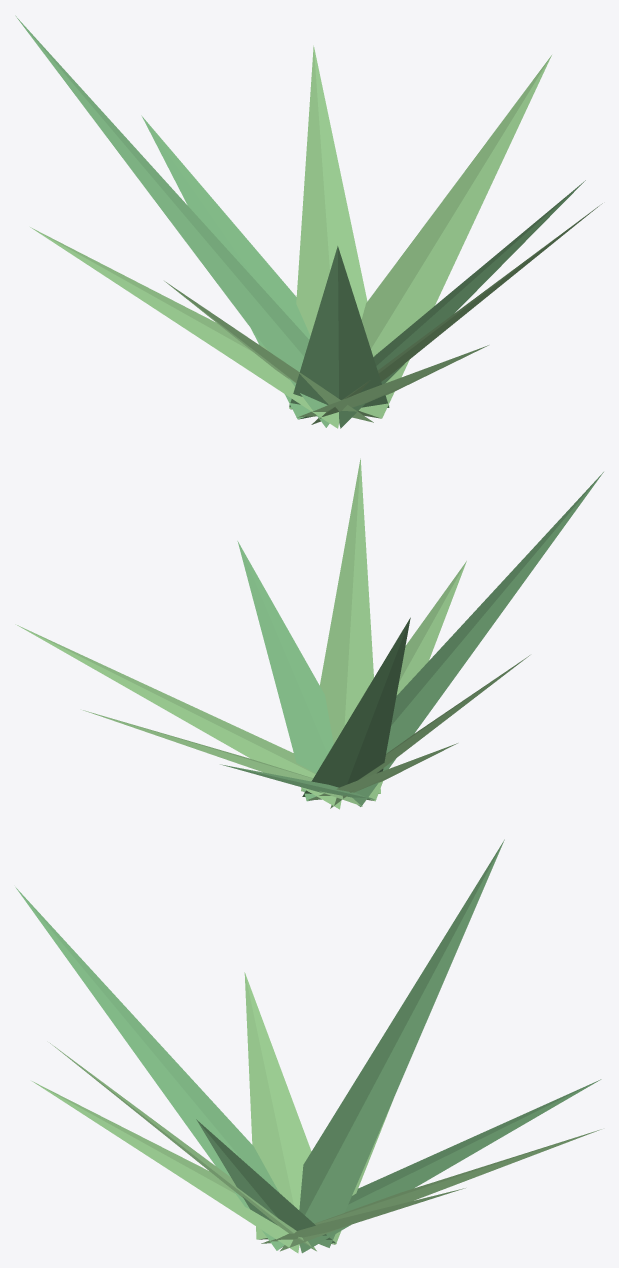
Rendered from samambaia_1.fbx.
3 views of the same model, one above another, from view 1: azimuth 30°, elevation 25°; view 2: azimuth 150°, elevation 25°; view 3: azimuth 270°, elevation 25° (orthographic). The views are drawn at different scales.
Parts seen in each view (by area): view 1: samambaia_1~Fronde 2@fern, samambaia_1~Fronde 9@leafdark, samambaia_1~Fronde 1@fern, samambaia_1~Fronde 6@leafdark, samambaia_1~Fronde 0@leafdark, samambaia_1~Fronde 8@fern, samambaia_1~Fronde 3@leafdark, samambaia_1~Fronde 4@fern, samambaia_1~Fronde 7@fern, samambaia_1~Fronde 5@fern; view 2: samambaia_1~Fronde 4@fern, samambaia_1~Fronde 6@leafdark, samambaia_1~Fronde 3@leafdark, samambaia_1~Fronde 9@leafdark, samambaia_1~Fronde 2@fern, samambaia_1~Fronde 5@fern, samambaia_1~Fronde 1@fern, samambaia_1~Fronde 7@fern, samambaia_1~Fronde 8@fern, samambaia_1~Fronde 0@leafdark; view 3: samambaia_1~Fronde 9@leafdark, samambaia_1~Fronde 6@leafdark, samambaia_1~Fronde 7@fern, samambaia_1~Fronde 0@leafdark, samambaia_1~Fronde 5@fern, samambaia_1~Fronde 3@leafdark, samambaia_1~Fronde 1@fern, samambaia_1~Fronde 4@fern, samambaia_1~Fronde 2@fern.
Part boxes in pixels (x1,y1,x2,y2): samambaia_1~Fronde 2@fern: [358, 55, 551, 418]; samambaia_1~Fronde 9@leafdark: [15, 15, 329, 427]; samambaia_1~Fronde 1@fern: [289, 45, 389, 409]; samambaia_1~Fronde 6@leafdark: [289, 246, 389, 407]; samambaia_1~Fronde 0@leafdark: [141, 115, 312, 419]; samambaia_1~Fronde 8@fern: [30, 227, 339, 428]; samambaia_1~Fronde 3@leafdark: [339, 180, 585, 428]; samambaia_1~Fronde 4@fern: [311, 203, 602, 424]; samambaia_1~Fronde 7@fern: [164, 281, 373, 422]; samambaia_1~Fronde 5@fern: [297, 345, 488, 417]; samambaia_1~Fronde 4@fern: [301, 458, 380, 793]; samambaia_1~Fronde 6@leafdark: [352, 472, 603, 806]; samambaia_1~Fronde 3@leafdark: [237, 541, 333, 801]; samambaia_1~Fronde 9@leafdark: [302, 617, 410, 796]; samambaia_1~Fronde 2@fern: [15, 624, 341, 809]; samambaia_1~Fronde 5@fern: [366, 561, 466, 801]; samambaia_1~Fronde 1@fern: [83, 710, 362, 806]; samambaia_1~Fronde 7@fern: [330, 655, 529, 808]; samambaia_1~Fronde 8@fern: [307, 743, 457, 800]; samambaia_1~Fronde 0@leafdark: [220, 764, 374, 799]; samambaia_1~Fronde 9@leafdark: [299, 839, 504, 1247]; samambaia_1~Fronde 6@leafdark: [15, 887, 284, 1250]; samambaia_1~Fronde 7@fern: [244, 972, 311, 1239]; samambaia_1~Fronde 0@leafdark: [299, 1079, 601, 1253]; samambaia_1~Fronde 5@fern: [32, 1081, 299, 1253]; samambaia_1~Fronde 3@leafdark: [196, 1119, 336, 1243]; samambaia_1~Fronde 1@fern: [280, 1129, 601, 1251]; samambaia_1~Fronde 4@fern: [50, 1043, 316, 1251]; samambaia_1~Fronde 2@fern: [261, 1188, 465, 1243].
Bounding box in the file's own units: 1.37 × 0.875 × 1.49.
